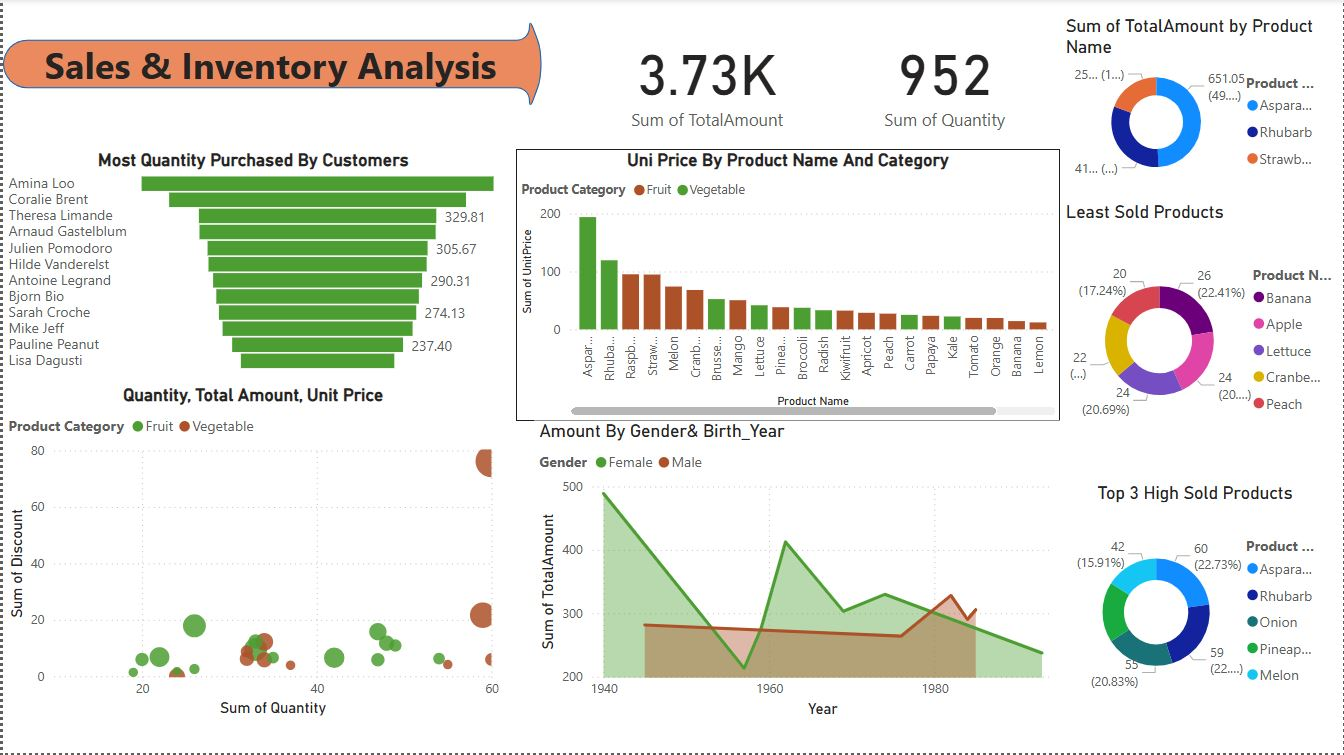

The dashboard page shown, as its layout file describes it:
{"tool":"powerbi","page":{"name":"Main Dashboard ","canvas":[1280,720],"ordinal":0},"visuals":[{"type":"funnel","title":"Most Quantity Purchased By Customers","fields":{"Y":["Sales_Inventory_Date.TotalAmount"],"Category":["Sales_Inventory_Date.Full Name"]},"box":[0,143.6,478.1,215.4],"z":0},{"type":"scatterChart","title":"Quantity, Total Amount, Unit Price","fields":{"Category":["Sales_Inventory_Date.Product Name"],"X":["Sales_Inventory_Date.Quantity"],"Y":["Sales_Inventory_Date.Discount"],"Series":["Sales_Inventory_Date.Product Category"],"Size":["Sales_Inventory_Date.UnitPrice"]},"box":[0,368.5,478.1,321.3],"z":1000},{"type":"columnChart","title":"Uni Price By Product Name And Category","fields":{"Category":["Sales_Inventory_Date.Product Name"],"Y":["Sales_Inventory_Date.UnitPrice"],"Series":["Sales_Inventory_Date.Product Category"]},"box":[489.5,143.6,519.7,258.9],"z":2000},{"type":"areaChart","title":"Amount By Gender& Birth_Year","fields":{"Category":["Sales_Inventory_Date.Birthdate.Variation.Date Hierarchy.Year","Sales_Inventory_Date.Birthdate.Variation.Date Hierarchy.Quarter","Sales_Inventory_Date.Birthdate.Variation.Date Hierarchy.Month","Sales_Inventory_Date.Birthdate.Variation.Date Hierarchy.Day"],"Y":["Sales_Inventory_Date.TotalAmount"],"Series":["Sales_Inventory_Date.Gender"]},"box":[506.5,402.5,502.7,287.2],"z":3000},{"type":"donutChart","fields":{"Category":["Sales_Inventory_Date.Product Name"],"Y":["Sales_Inventory_Date.TotalAmount"]},"box":[1009.1,15.1,257,164.4],"z":4000},{"type":"donutChart","title":"Least Sold Products","fields":{"Category":["Sales_Inventory_Date.Product Name"],"Y":["Sales_Inventory_Date.Quantity"]},"box":[1009.1,192.8,270.2,245.7],"z":5000},{"type":"donutChart","title":"Top 3 High Sold Products","fields":{"Category":["Sales_Inventory_Date.Product Name"],"Y":["Sales_Inventory_Date.Quantity"]},"box":[1009.1,461.1,257,228.7],"z":6000},{"type":"shape","box":[0,15.1,519.7,92.6],"z":7000},{"type":"card","fields":{"Values":["Sales_Inventory_Date.TotalAmount"]},"box":[566.9,15.1,209.8,120.9],"z":8000},{"type":"card","fields":{"Values":["Sales_Inventory_Date.Quantity"]},"box":[789.9,15.1,219.2,120.9],"z":9000}]}

Visuals, with their boxes in screenshot pixels (x1, y1, x2, y2), scaled from the page's 1280x720 canvas onto the 1344x755 screenshot:
"Most Quantity Purchased By Customers" funnel: 0,151,502,376
"Quantity, Total Amount, Unit Price" scatterChart: 0,386,502,723
"Uni Price By Product Name And Category" columnChart: 514,151,1060,422
"Amount By Gender& Birth_Year" areaChart: 532,422,1060,723
donutChart - Sales_Inventory_Date.Product Name x Sales_Inventory_Date.TotalAmount: 1060,16,1329,188
"Least Sold Products" donutChart: 1060,202,1343,460
"Top 3 High Sold Products" donutChart: 1060,484,1329,723
shape: 0,16,546,113
card - Sales_Inventory_Date.TotalAmount: 595,16,816,143
card - Sales_Inventory_Date.Quantity: 829,16,1060,143
